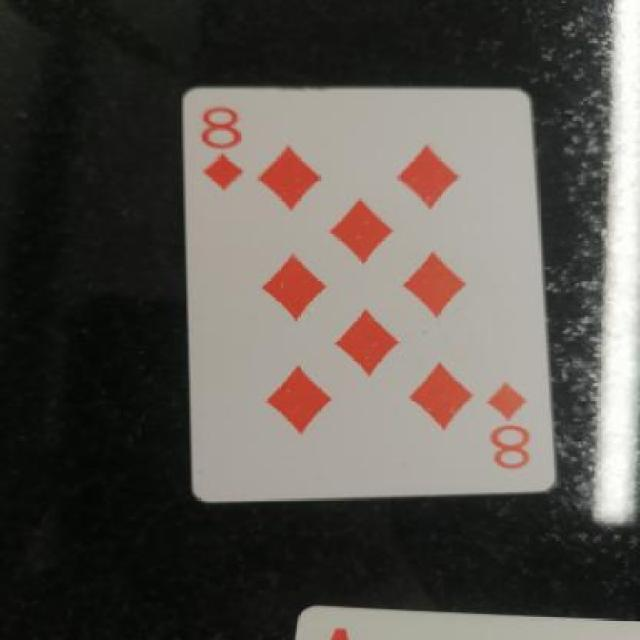8D: (194, 98, 272, 197), (483, 365, 545, 480)
